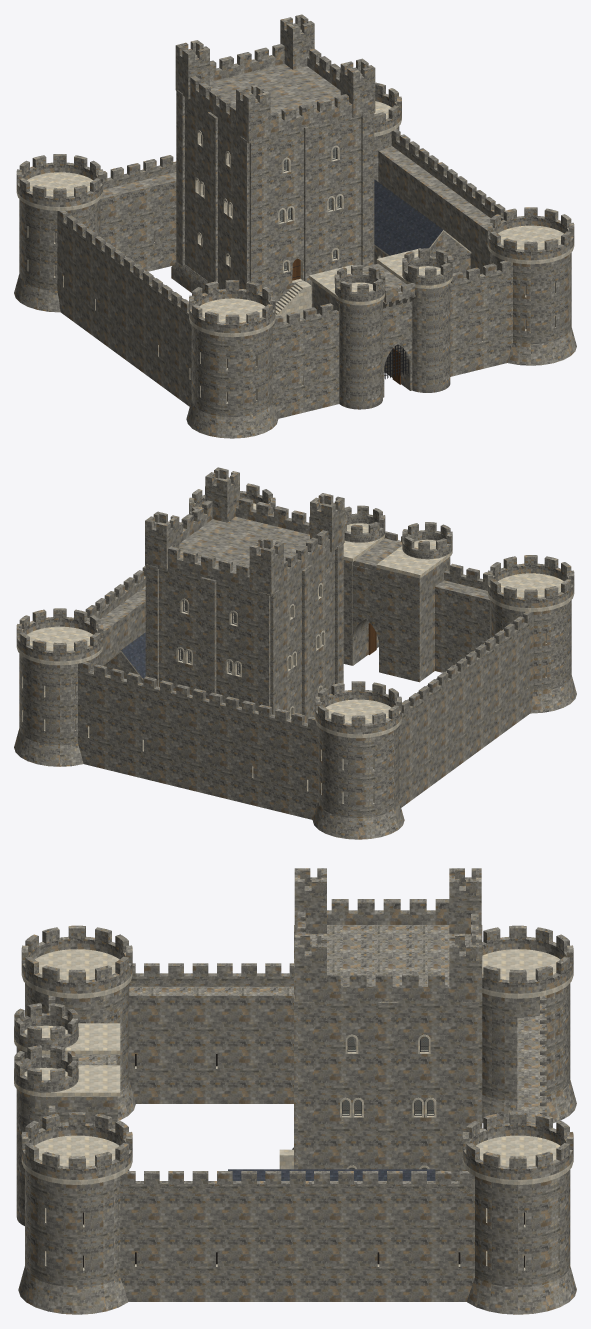
File: distant_castle.glb
3 renders of one model, top to bottom at view 1: azimuth 30°, elevation 25°; view 2: azimuth 150°, elevation 25°; view 3: azimuth 270°, elevation 25°, orthographic. The views are drawn at different scales.
Parts seen in each view (by area): view 1: Battlements, Corner towers, Roofs, Door ironwork; view 2: Battlements, Corner towers, Roofs; view 3: Battlements, Corner towers, Roofs, Glazing.
Boxes of the visible parts, x1,y1,x2,y2 form: Battlements: [14, 14, 576, 438]; Corner towers: [16, 101, 574, 403]; Roofs: [374, 179, 442, 255]; Door ironwork: [201, 135, 408, 379]; Battlements: [14, 467, 576, 839]; Corner towers: [16, 503, 574, 803]; Roofs: [121, 632, 145, 678]; Battlements: [14, 868, 576, 1314]; Corner towers: [14, 949, 573, 1270]; Roofs: [228, 1169, 435, 1180]; Glazing: [342, 1037, 433, 1168].
Bounding box in the file's own units: 49.34 × 29.1 × 49.72.
Materials: 8 (6 with a texture image).
